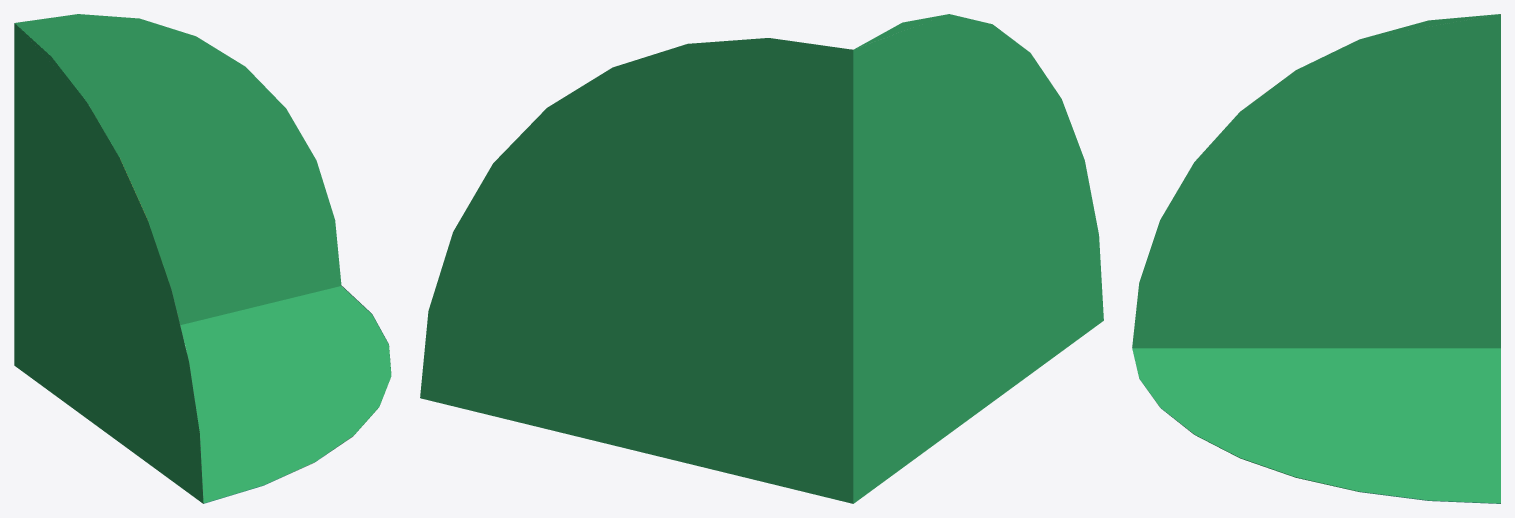
File: r4c1_body_green.gltf
3 views of the same model, side by side, from view 1: azimuth 30°, elevation 25°; view 2: azimuth 150°, elevation 25°; view 3: azimuth 270°, elevation 25° (orthographic). The views are drawn at different scales.
Visible parts, largest first — view 1: r4c1_body_green; view 2: r4c1_body_green; view 3: r4c1_body_green.
Boxes of the visible parts, bbox=[...] form: r4c1_body_green: bbox=[14, 14, 391, 503]; r4c1_body_green: bbox=[420, 14, 1103, 503]; r4c1_body_green: bbox=[1132, 14, 1500, 503].
Bounding box in the file's own units: 2 × 2 × 2.
Materials: 1 (1 with a texture image).
